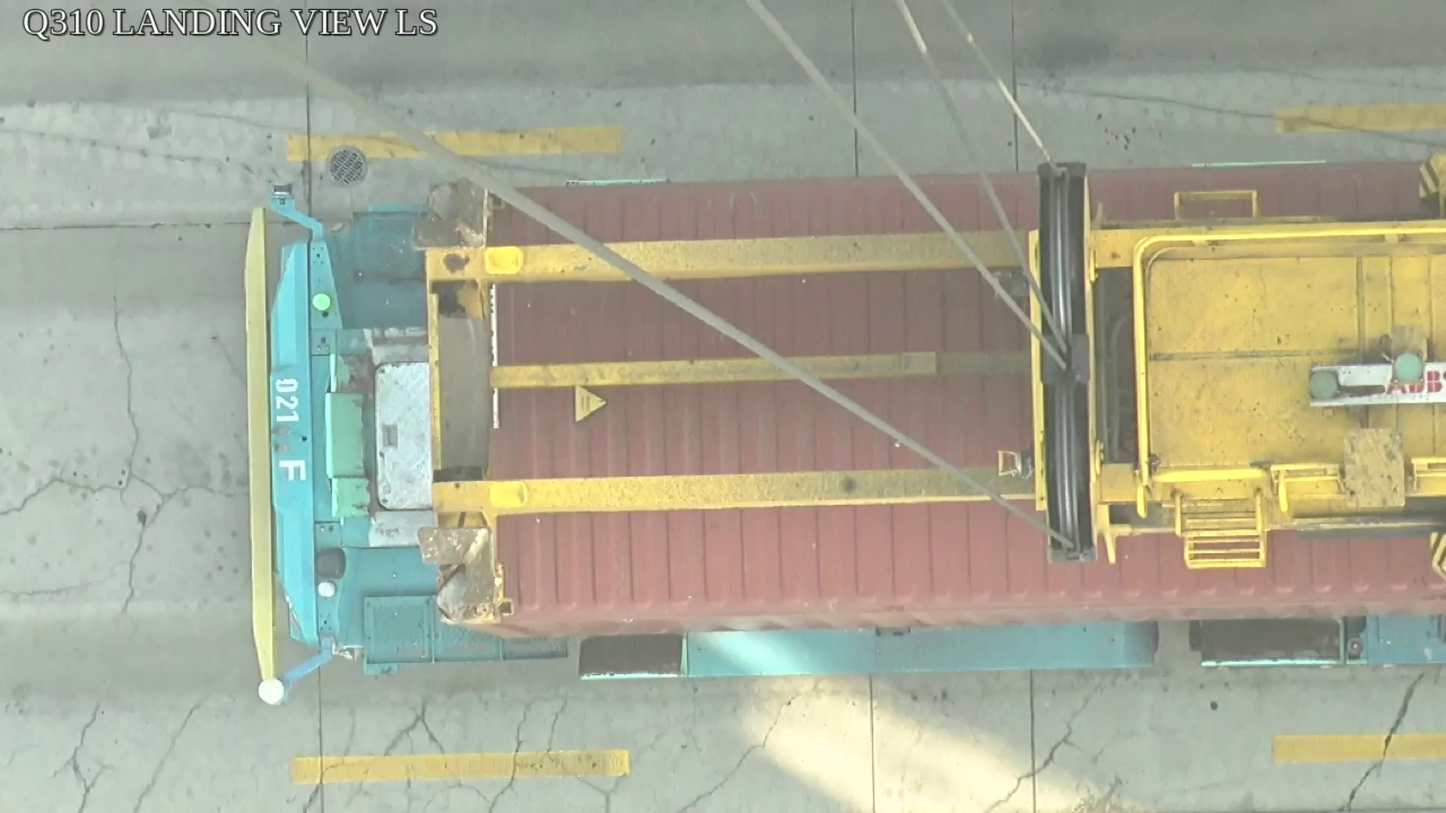aa: (1031, 165, 1103, 563)
